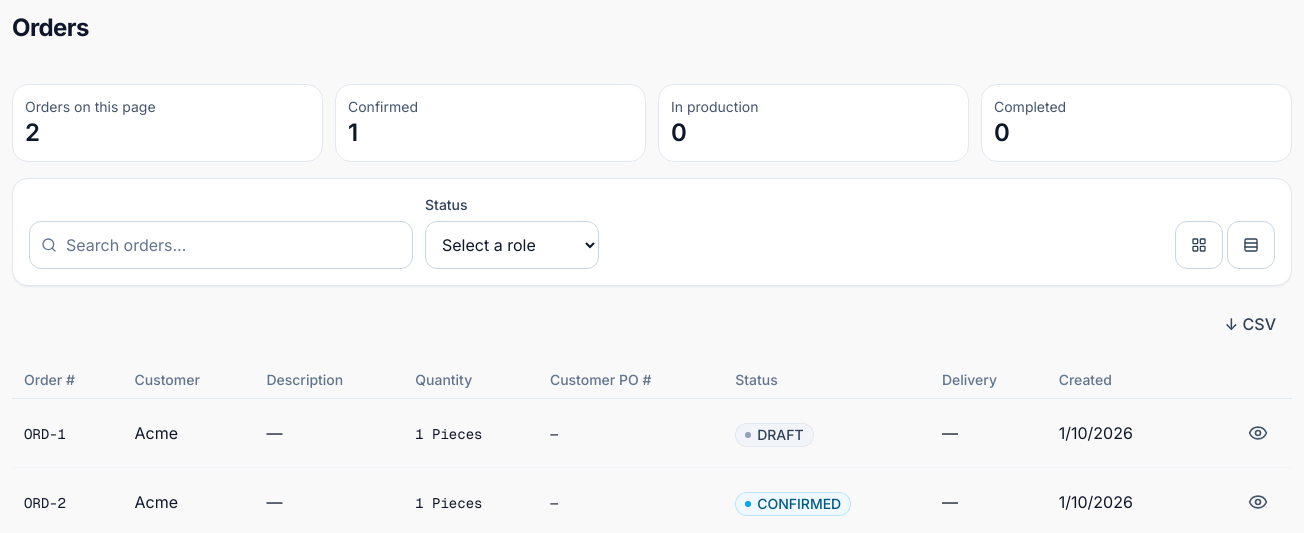
Test: OrdersScreen list polish › shows 4 KPI cards and filters by status client-side
The image size is (1304, 533).
Expected: the element named "Orders summary" is shown, [12,84,1292,162]
Expected: the text "Orders on this page" is shown, [25,98,156,115]
Select "CONFIRMED" in the dropdown labelled "Status" at coordinates (512, 245), box [425,221,599,269]
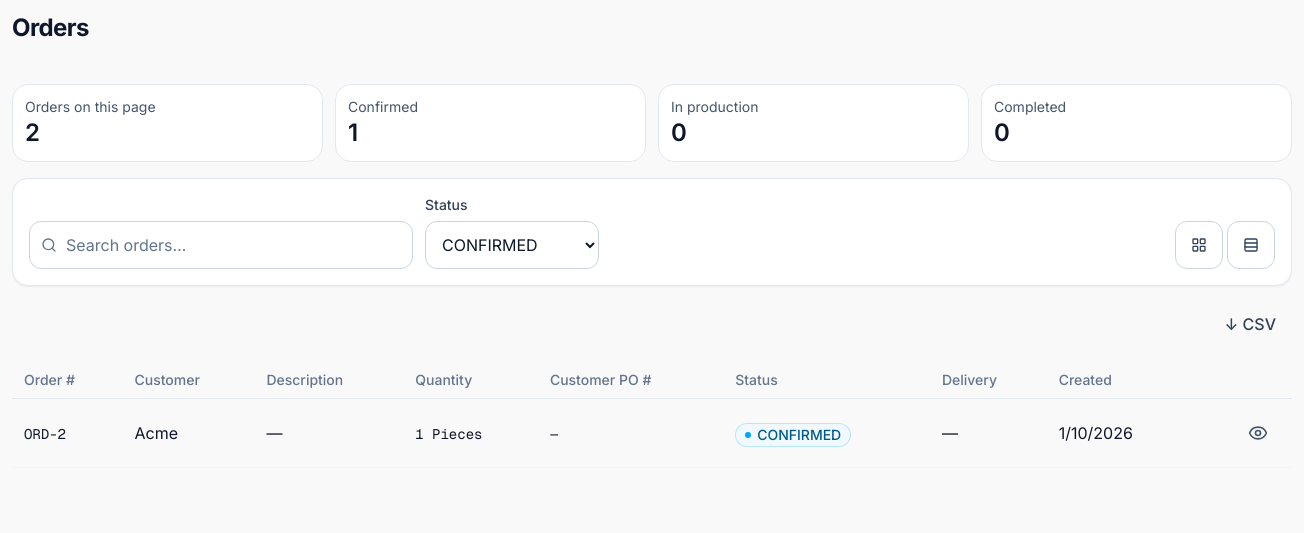
Result: the text "ORD-1" is not shown
